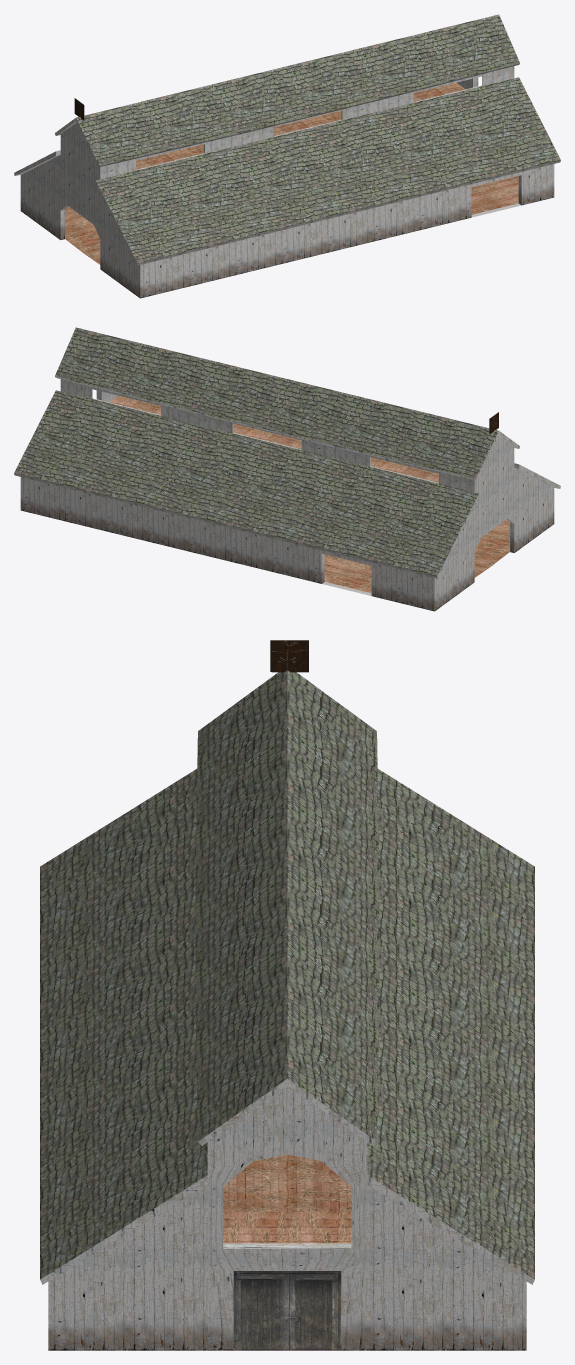
Rendered from sw_tempbarn06.obj.
The picture shows the model from 3 angles, top to bottom: view 1: azimuth 30°, elevation 25°; view 2: azimuth 150°, elevation 25°; view 3: azimuth 270°, elevation 25°; orthographic projection. The views are drawn at different scales.
Visible parts, largest first — view 1: sw_tempbarn06; view 2: sw_tempbarn06; view 3: sw_tempbarn06.
Part boxes in pixels (x1=…): sw_tempbarn06: x1=14, y1=14, x2=560, y2=298; sw_tempbarn06: x1=14, y1=327, x2=560, y2=611; sw_tempbarn06: x1=40, y1=640, x2=534, y2=1350.
Size of the model in its own units: 30.67 by 10.59 by 15.52.
6 materials, 6 textured.
